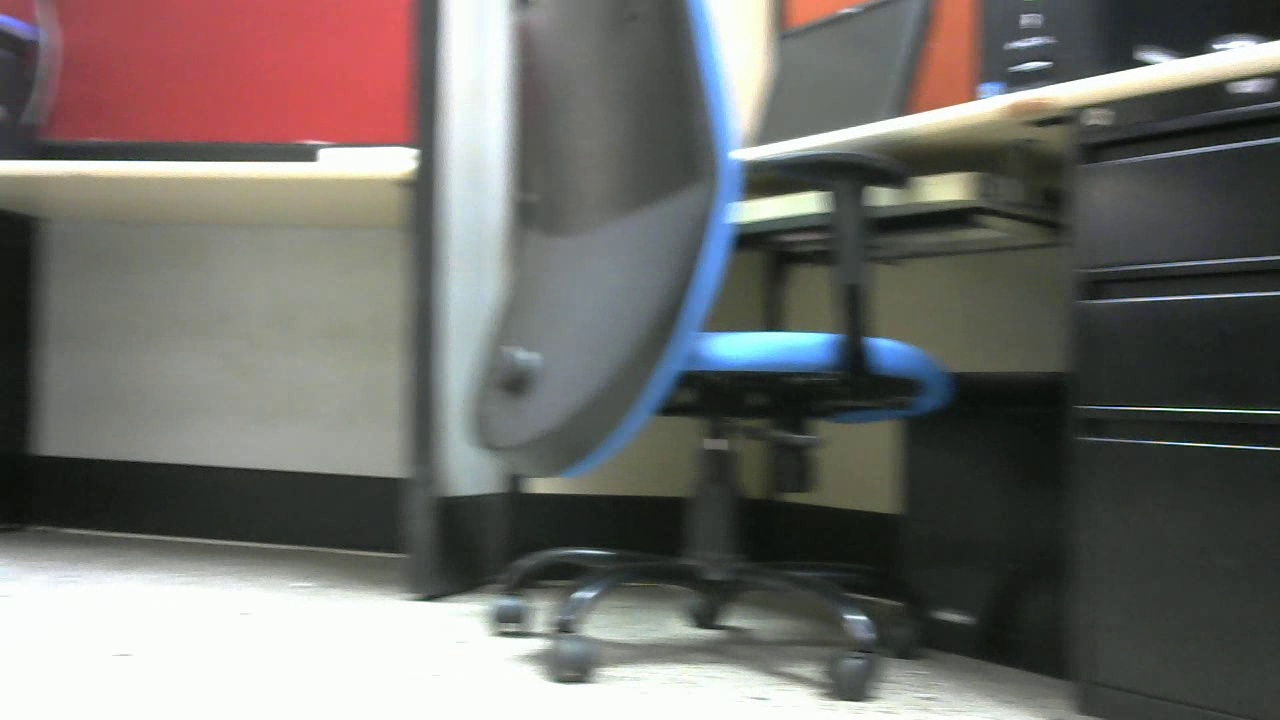chair: (471, 1, 961, 696)
